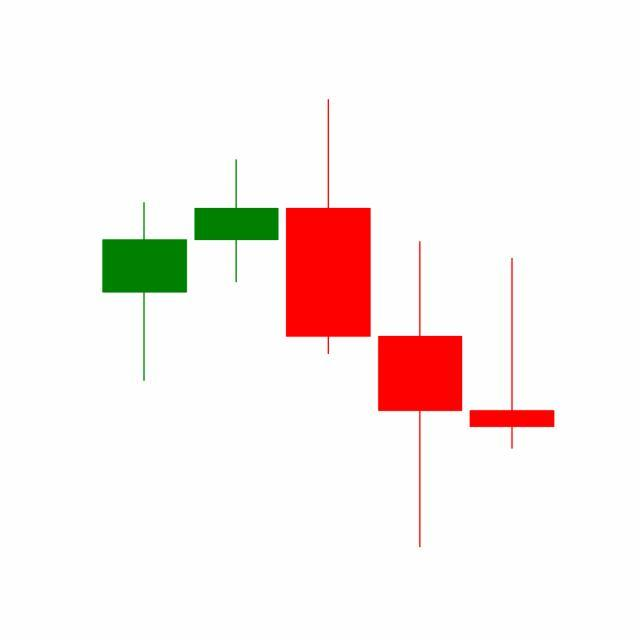Gravestone Doji: (466, 257, 559, 453)
